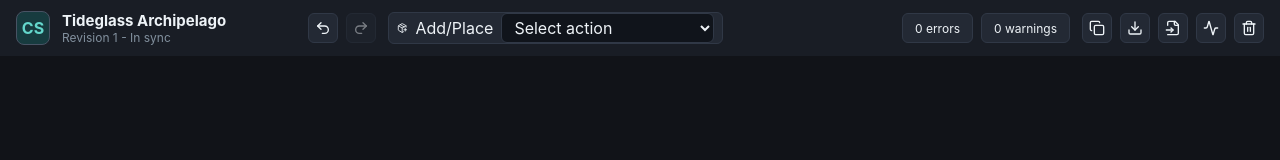
Scenario: rendered surface equivalence classes › downloads local diagnostics without embedding world JSON or source text
Click the button named "Download diagnostics" at (1211, 28), box [1196, 13, 1226, 43]
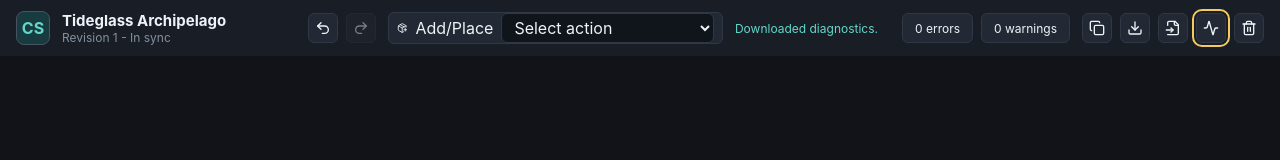
Expected: the message reads "Downloaded diagnostics.", [735, 20, 878, 36]
